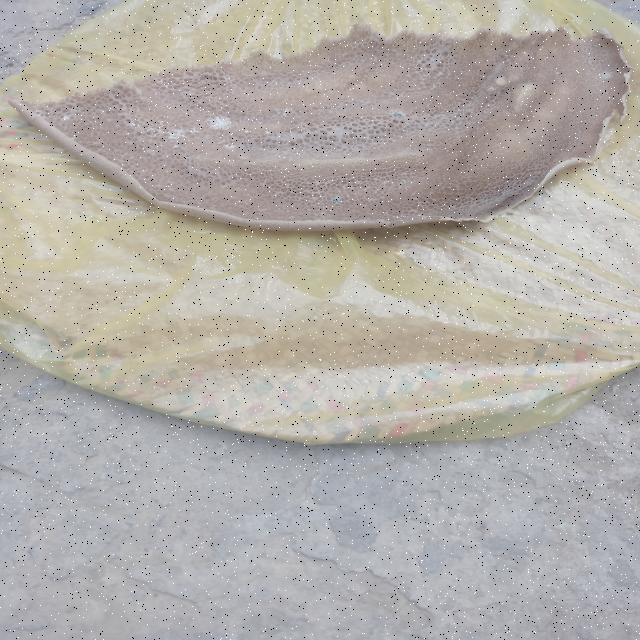injera_mold: (205, 115, 235, 132), (164, 128, 188, 142), (390, 108, 410, 120), (272, 108, 292, 120), (29, 108, 47, 120), (599, 68, 614, 82), (58, 112, 73, 124), (223, 141, 238, 151), (330, 195, 342, 206), (181, 154, 193, 163)
